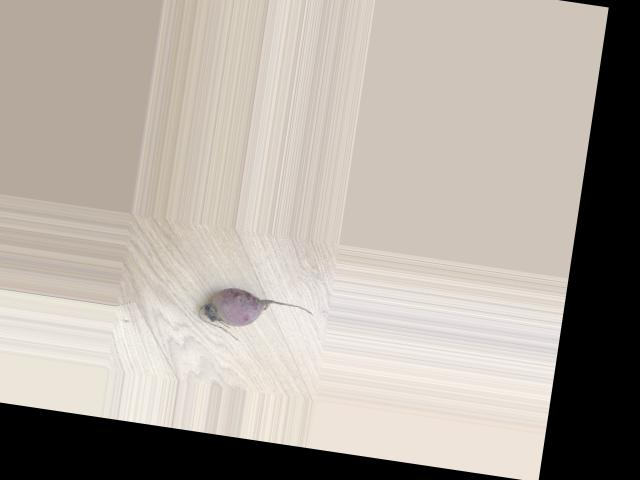beet: (196, 282, 316, 350)
